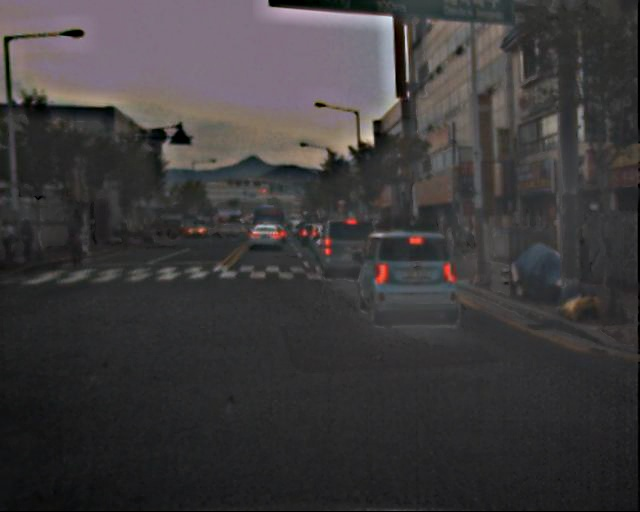person: (19, 218, 52, 263), (66, 223, 92, 270)
